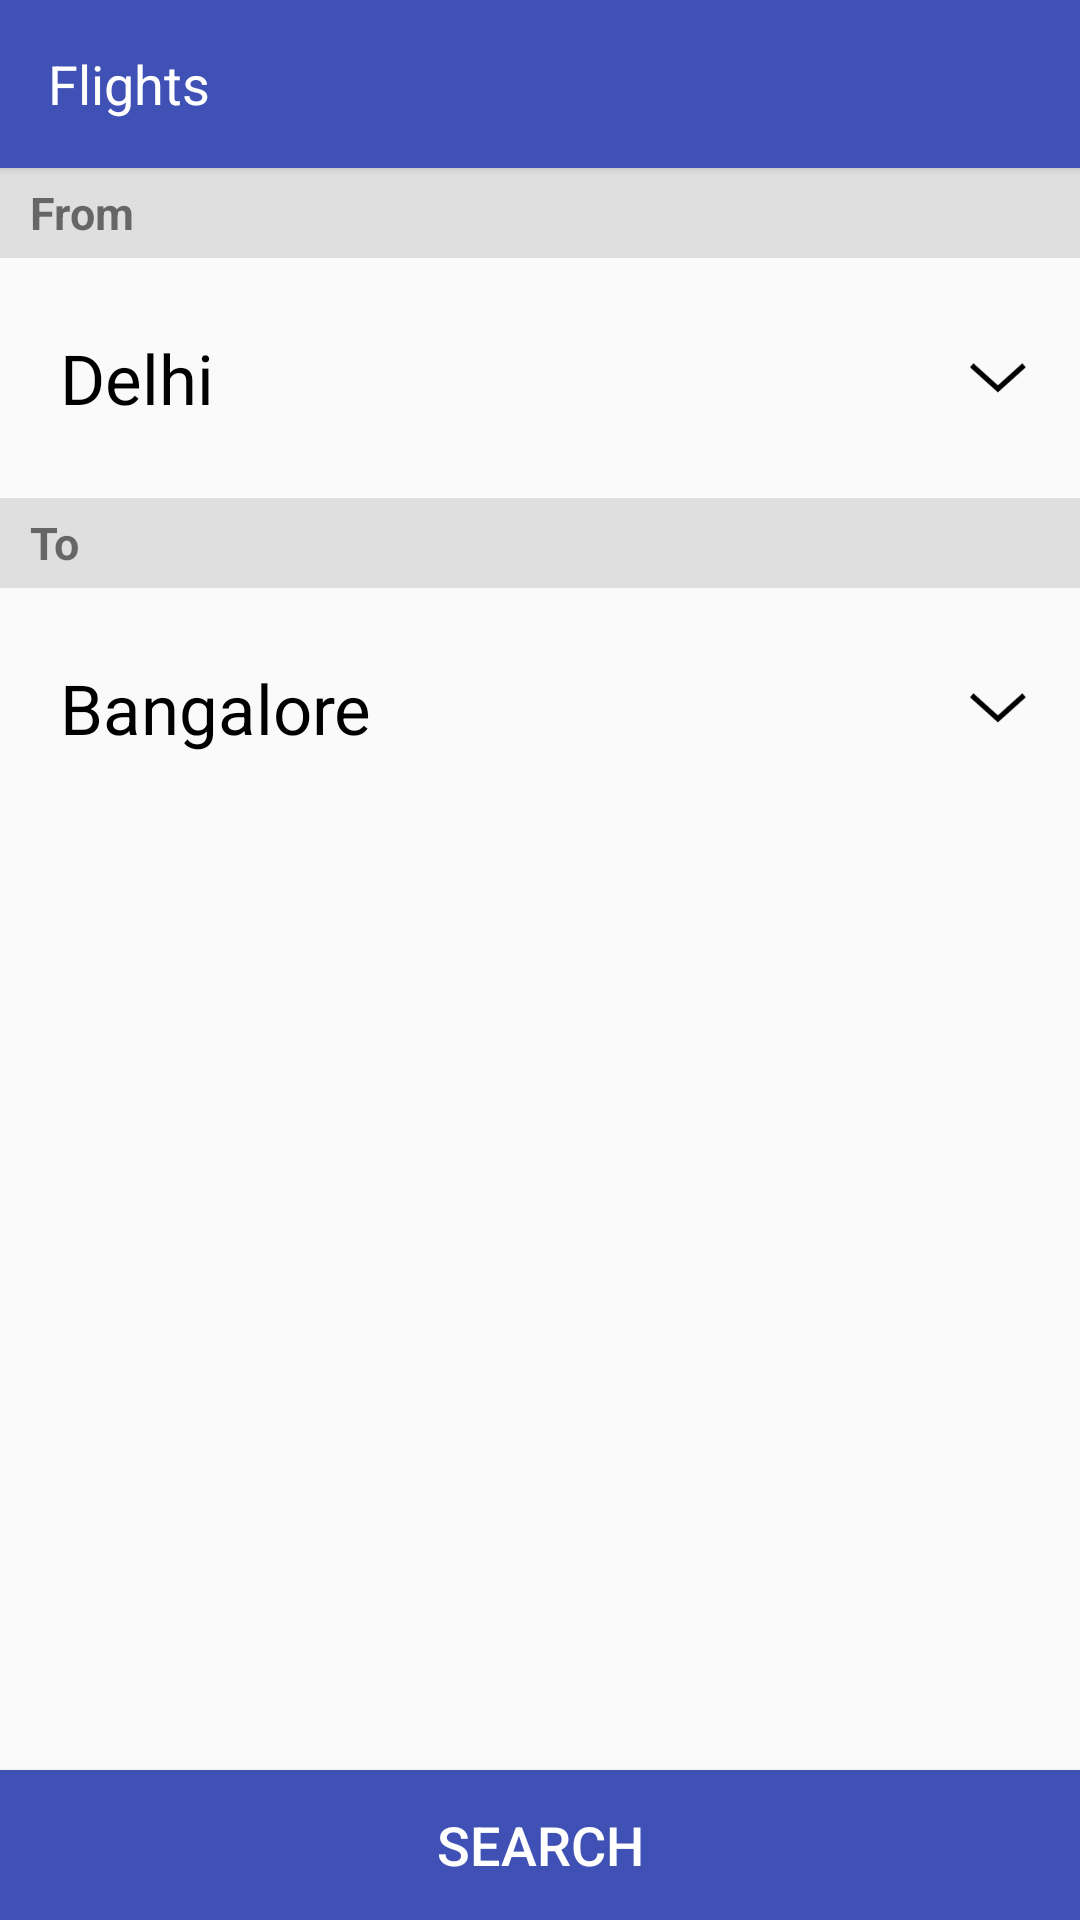

Locate icon controls on the screen. Image size 1080x1920, boxes as region(x1, y1, x2, y2).
down: region(970, 363, 1026, 393), region(970, 693, 1026, 723)
